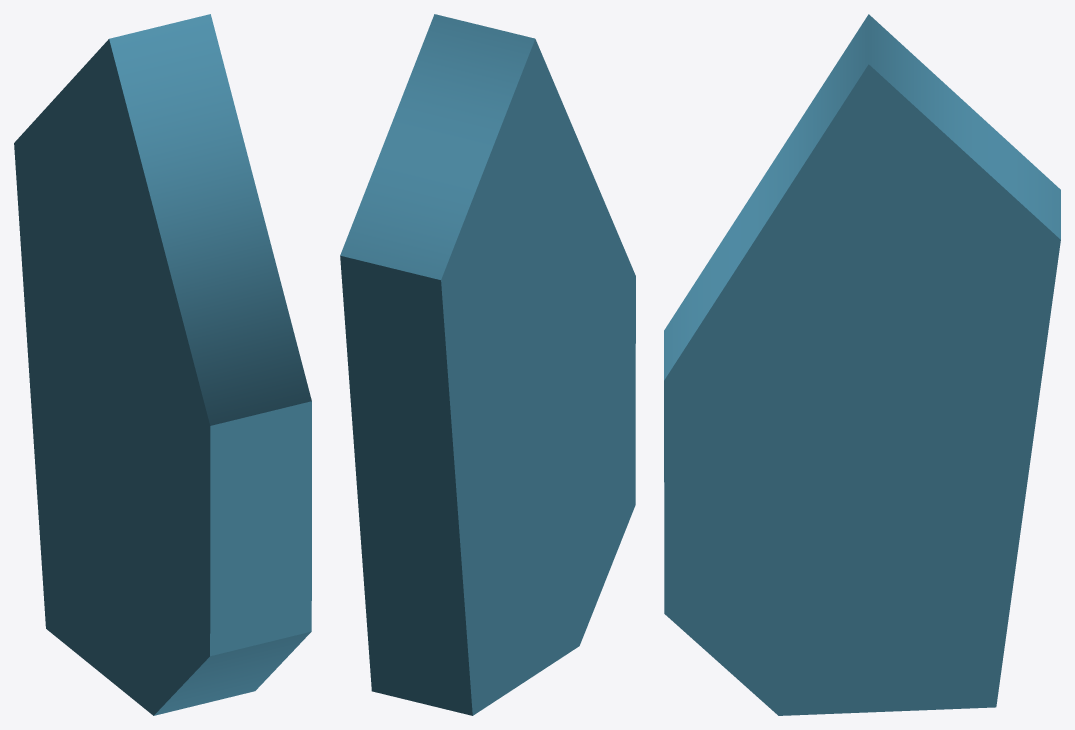
File: NexusC_Trigger_2.fbx
3 views of the same model, side by side, from view 1: azimuth 30°, elevation 25°; view 2: azimuth 150°, elevation 25°; view 3: azimuth 270°, elevation 25° (orthographic).
Visible parts, largest first — view 1: polySurface66; view 2: polySurface66; view 3: polySurface66.
Part boxes in pixels (x1=…): polySurface66: x1=14, y1=14, x2=311, y2=715; polySurface66: x1=340, y1=14, x2=635, y2=715; polySurface66: x1=664, y1=14, x2=1060, y2=715.
Size of the model in its own units: 9.22 by 55.85 by 30.82.
